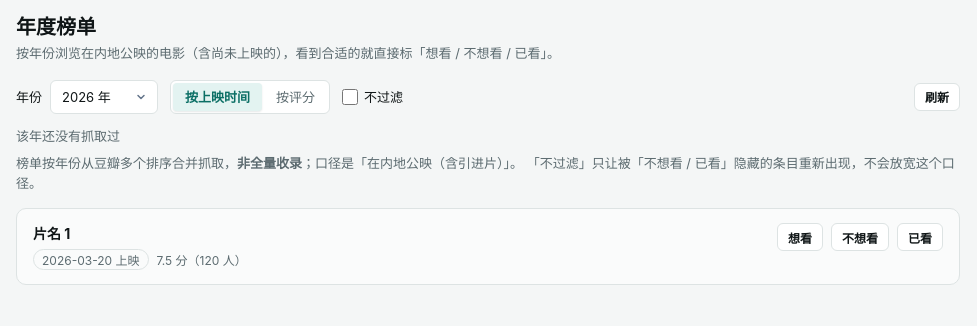
三种标记 › 标记失败出错误，不谎报成功也不重读列表
This screenshot has width=977, height=326.
Click the button "不想看".
click(860, 237)  # box [831,223,889,251]
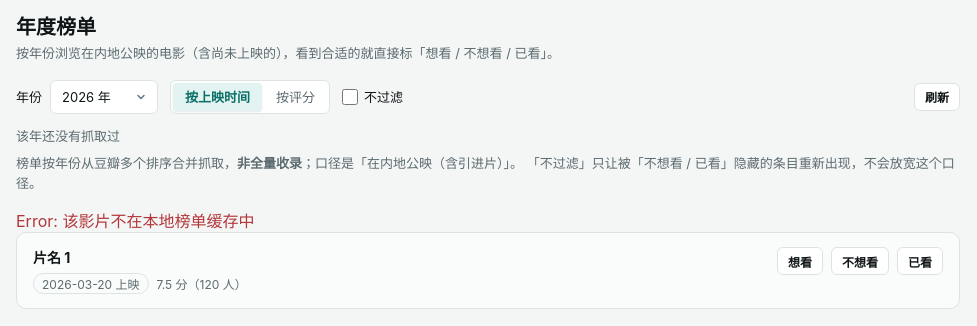
expect the message with test id "movie-chart-action-error" shows "该影片不在本地榜单缓存中": met, box [16,211,254,231]
